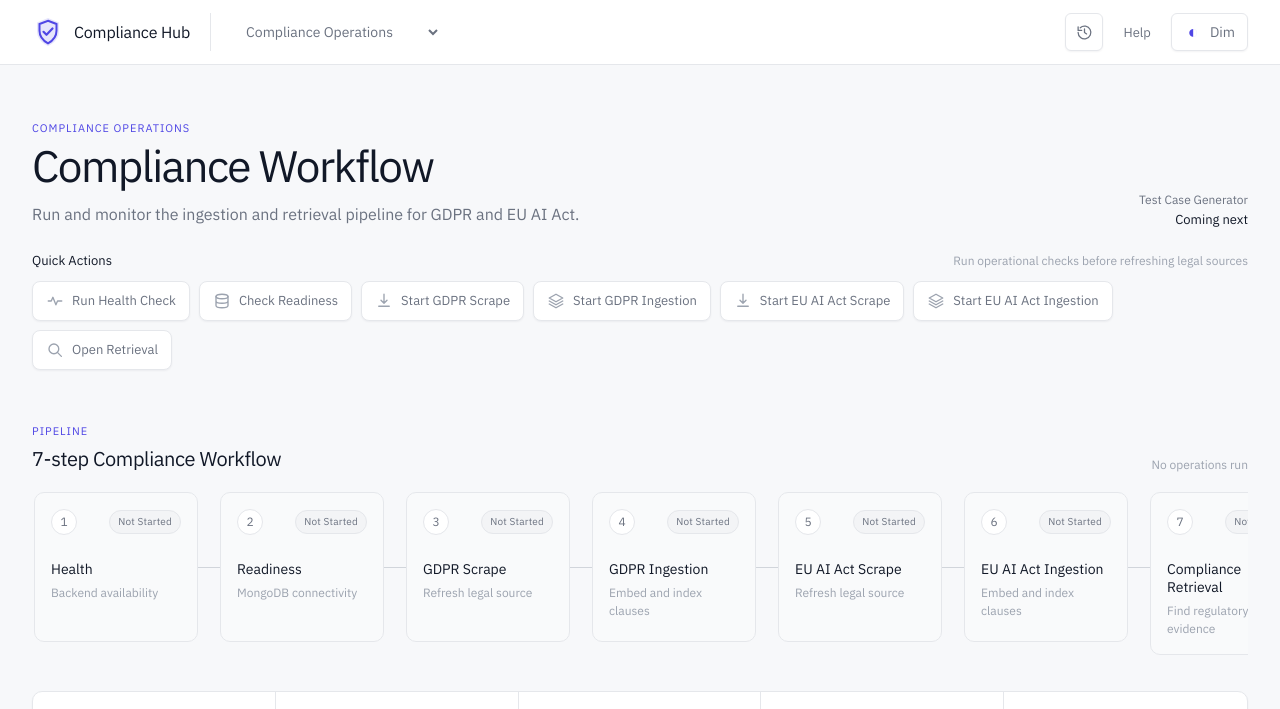
it: UI foundation › switches to dim theme and persists the preference
What coordinates should you click on to do the following:
click the button with aria-label "Switch to dim theme"
I would click on:
 (1209, 32)
Its box is [1171, 13, 1248, 51].
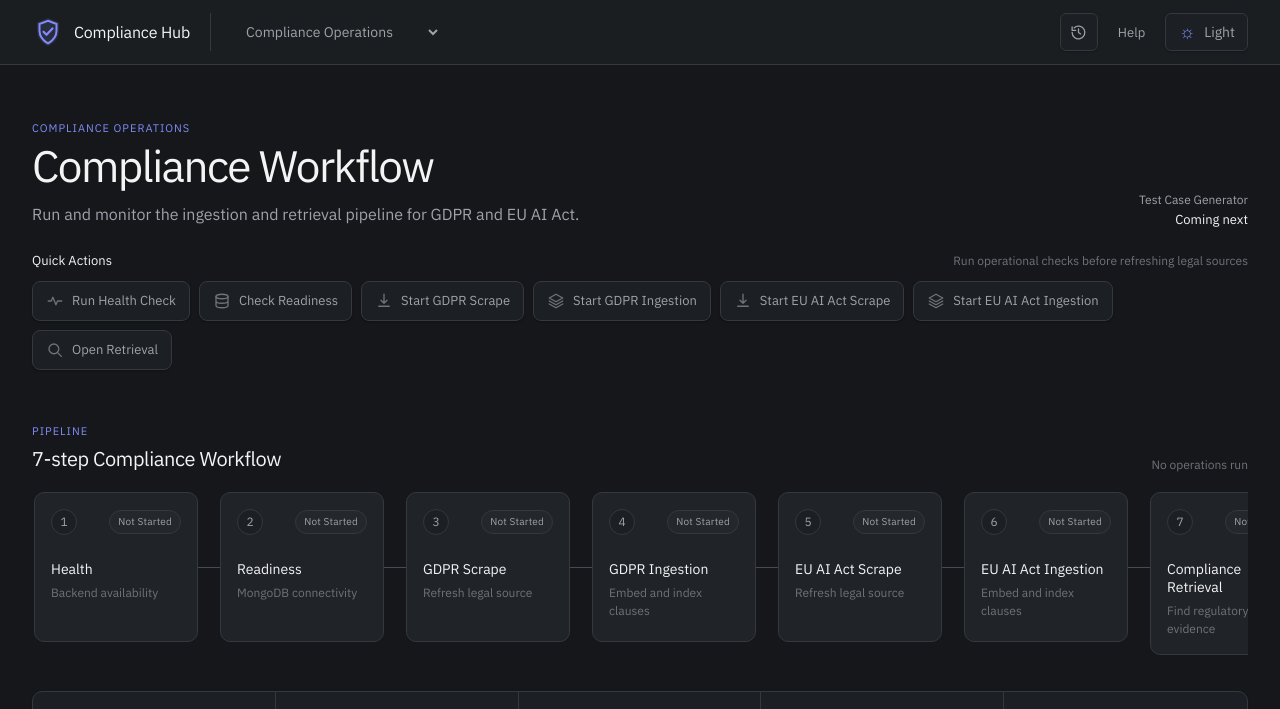
Expected: the button with aria-label "Switch to light theme" is shown, [1165, 13, 1248, 51]
